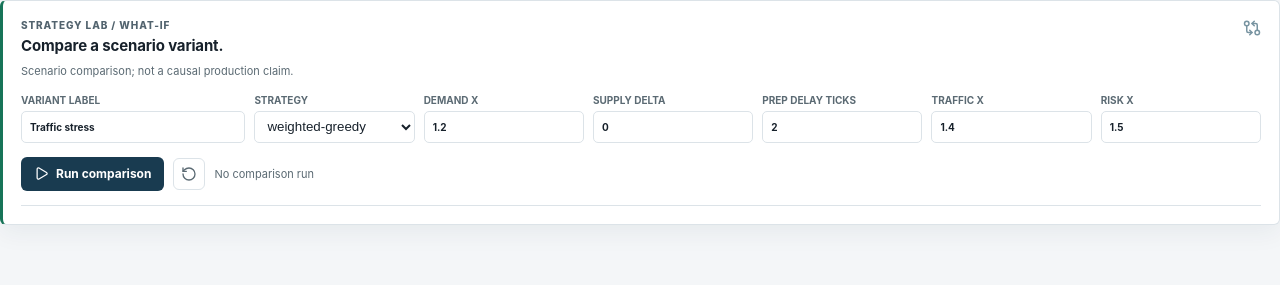
Test: What-if comparison panel › keeps compute failures visible
The width and height of the screenshot is (1280, 285).
Click the button "Run comparison": (93, 174) left=21, top=156, right=164, bottom=190
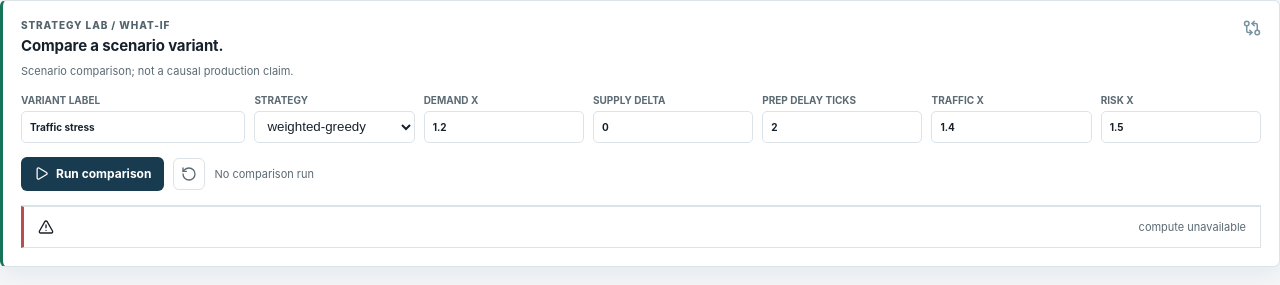
Now the message "compute unavailable" is shown, box left=21, top=206, right=1261, bottom=248
